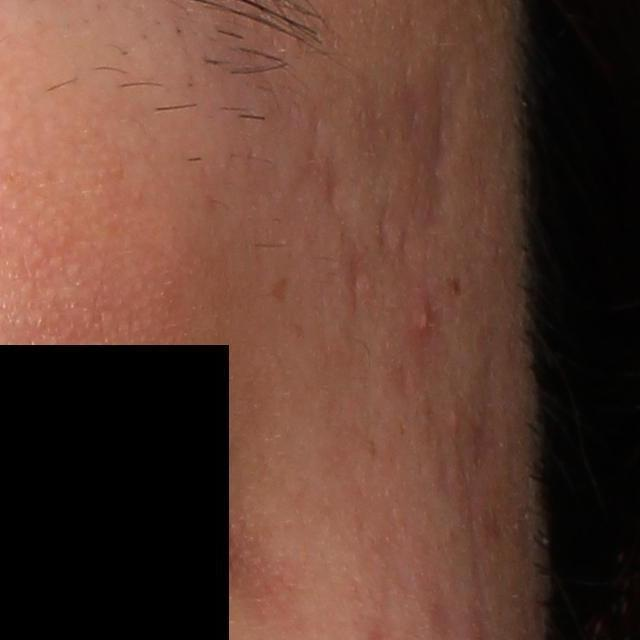atrophic_scar: (417, 65, 461, 231)
melasma: (266, 276, 293, 306)
papule: (414, 304, 434, 332)
